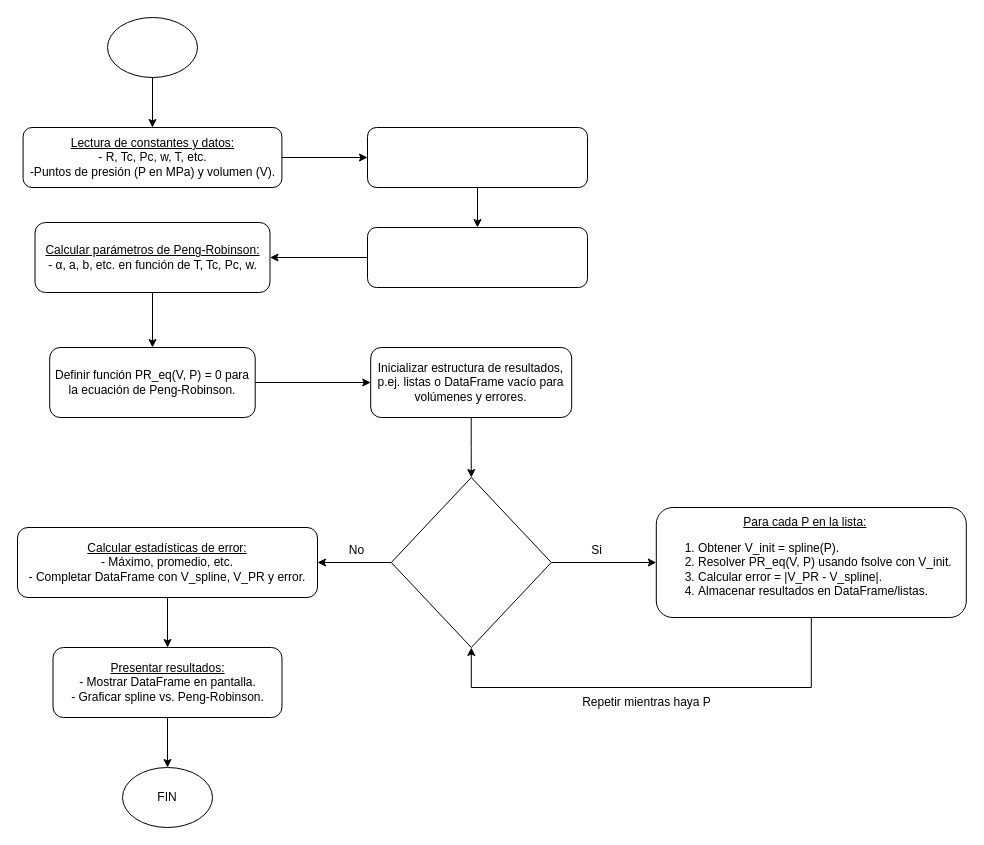
Some shapes in this 984 by 845 pixel diagram are drawn without their labels. Here are the shapes that lost their labels. From the top down, the centre of each, then its label:
(x=152, y=47): INICIO
(x=477, y=157): Conversión de unidades: - Pasa de MPa a Pa. - Calcula volumen de m³/kg a m³/mol.
(x=477, y=257): Crear spline cúbico con (P, V). Utiliza condiciones "natural".
(x=470, y=562): ¿Quedan valores de presión (P) por procesar?
